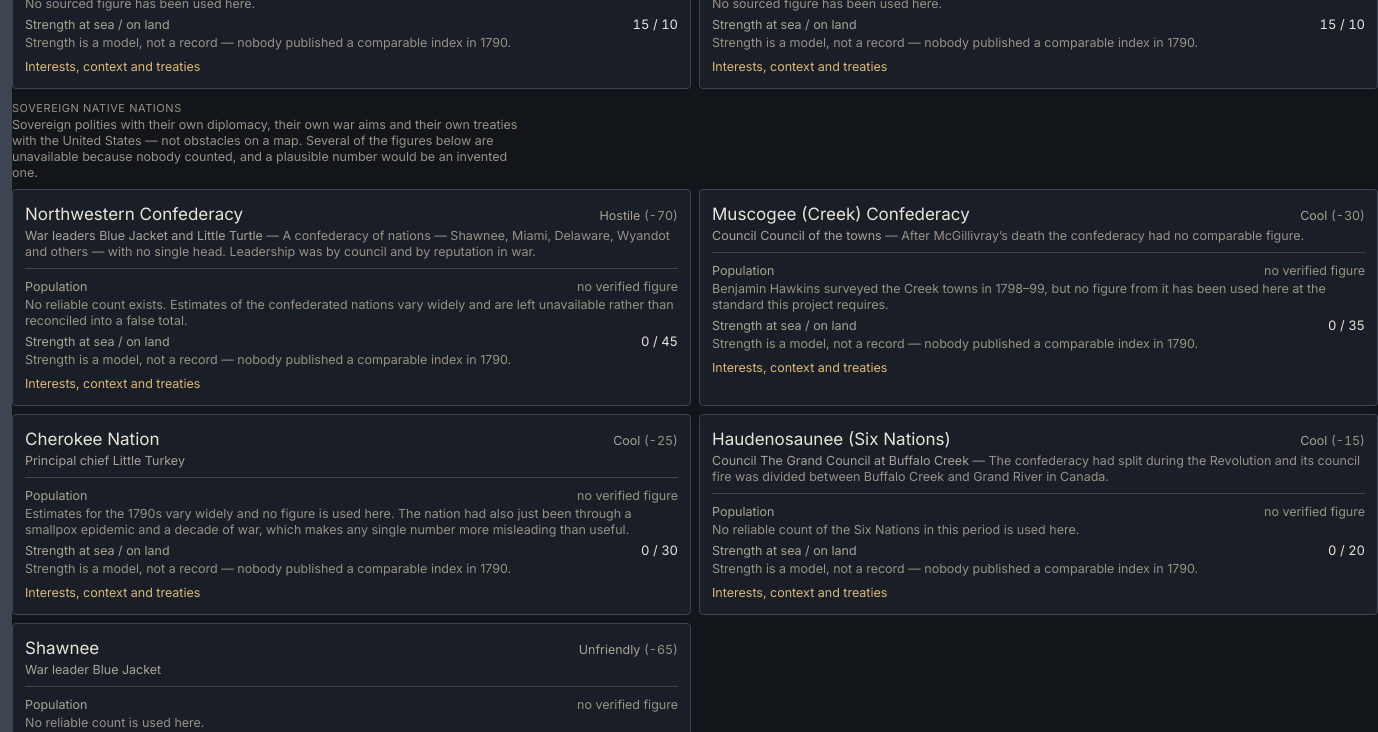
what each power wants, and what was done › opens to show interests, context and sources
This screenshot has width=1378, height=732.
(page scrolled)
Step 1. Click the button "Interests, context and treaties" below "War leaders" → coordinates (113, 384), box top-left (25, 376), bottom-right (200, 392)
(page scrolled)
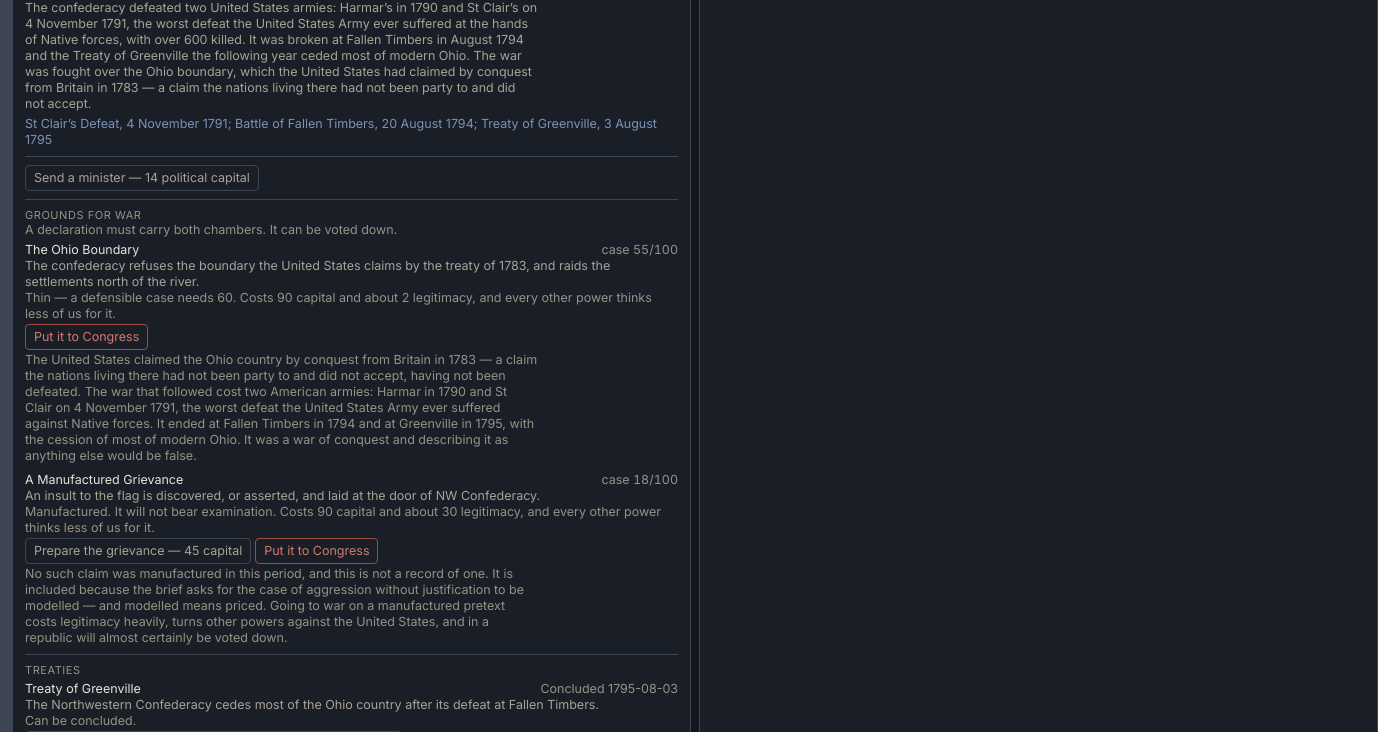
Expected: the element with test id "detail-northwest_confederacy" shows "St Clair", top-left (25, 0), bottom-right (537, 111)
Expected: the element with test id "detail-northwest_confederacy" shows "Treaty of Greenville", top-left (25, 681), bottom-right (141, 696)
